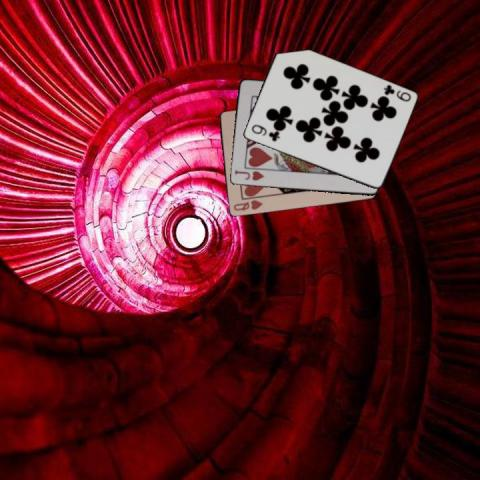9c: (248, 122, 281, 143), (381, 82, 412, 103)
Jh: (231, 167, 266, 182)
Qh: (230, 197, 264, 212)
